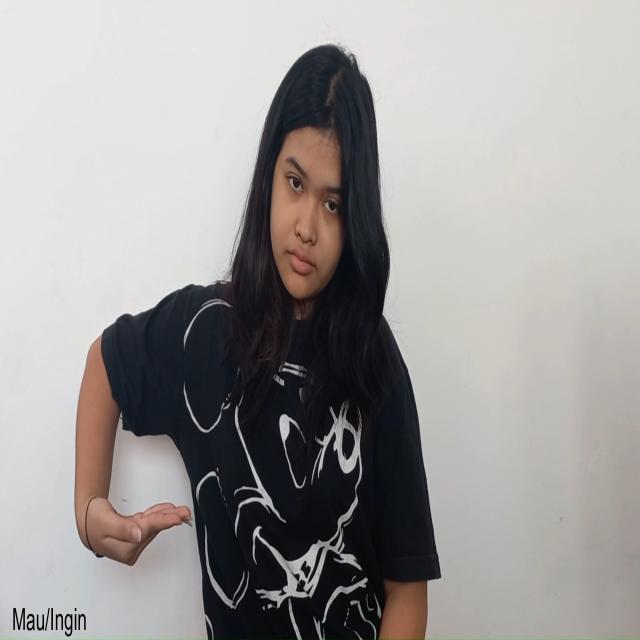Mau-Ingin -BISINDO-: (81, 492, 196, 570)
